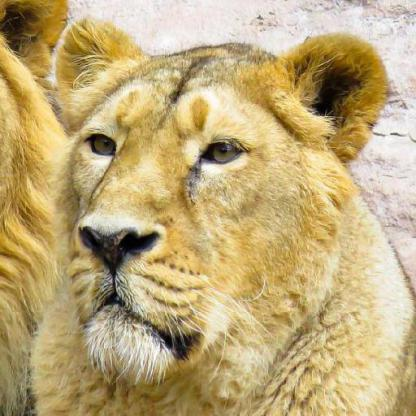lion: (46, 38, 376, 361)
